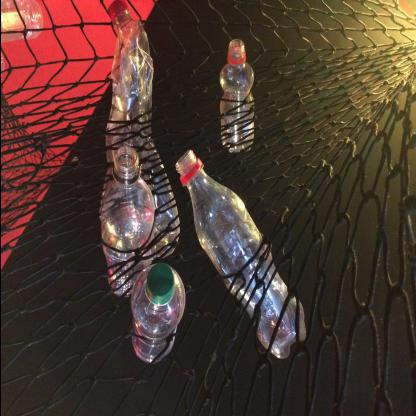plastik: (174, 149, 306, 361), (105, 2, 181, 260), (99, 146, 155, 300), (129, 264, 186, 366), (218, 38, 256, 156), (1, 1, 43, 45)
